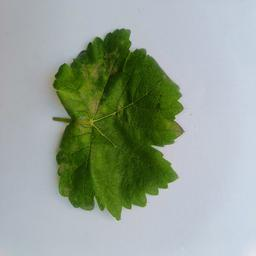Powdery-Mildew: (77, 60, 111, 128), (112, 83, 132, 116), (160, 118, 177, 135)
